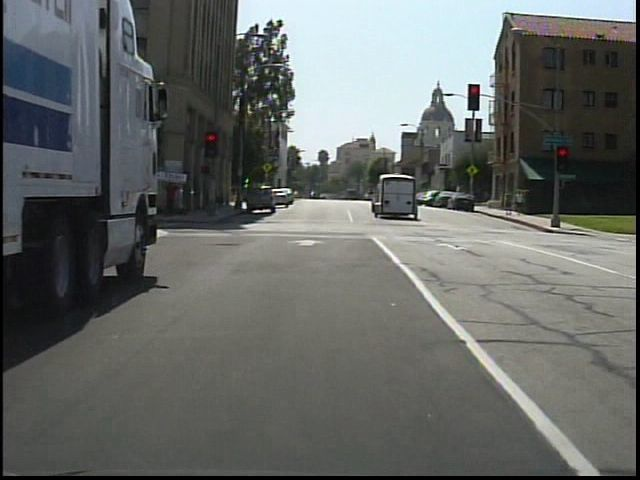person: (163, 174, 183, 218), (513, 187, 528, 216), (503, 187, 515, 217)
